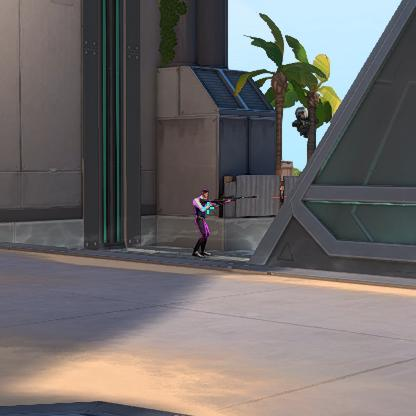enemyBody: (197, 201, 203, 218)
enemyHead: (203, 191, 207, 198)
